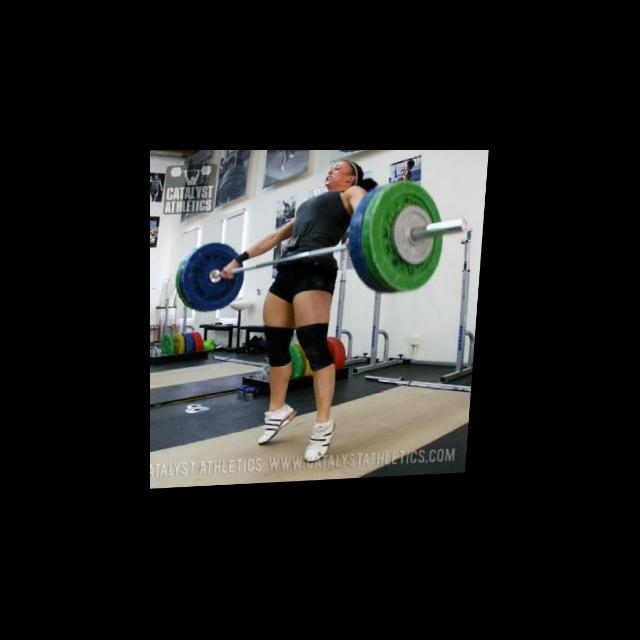barbell: (365, 181, 472, 299)
